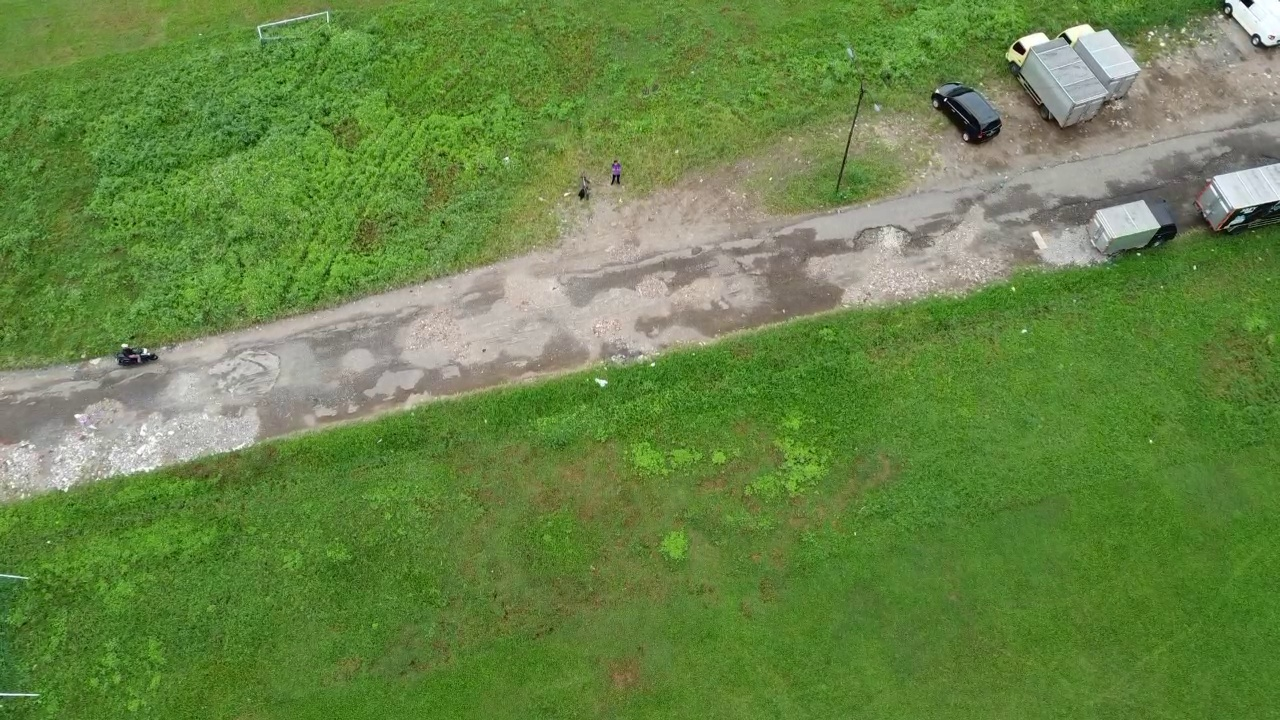mobil: (925, 77, 1009, 148), (1212, 1, 1278, 58)
